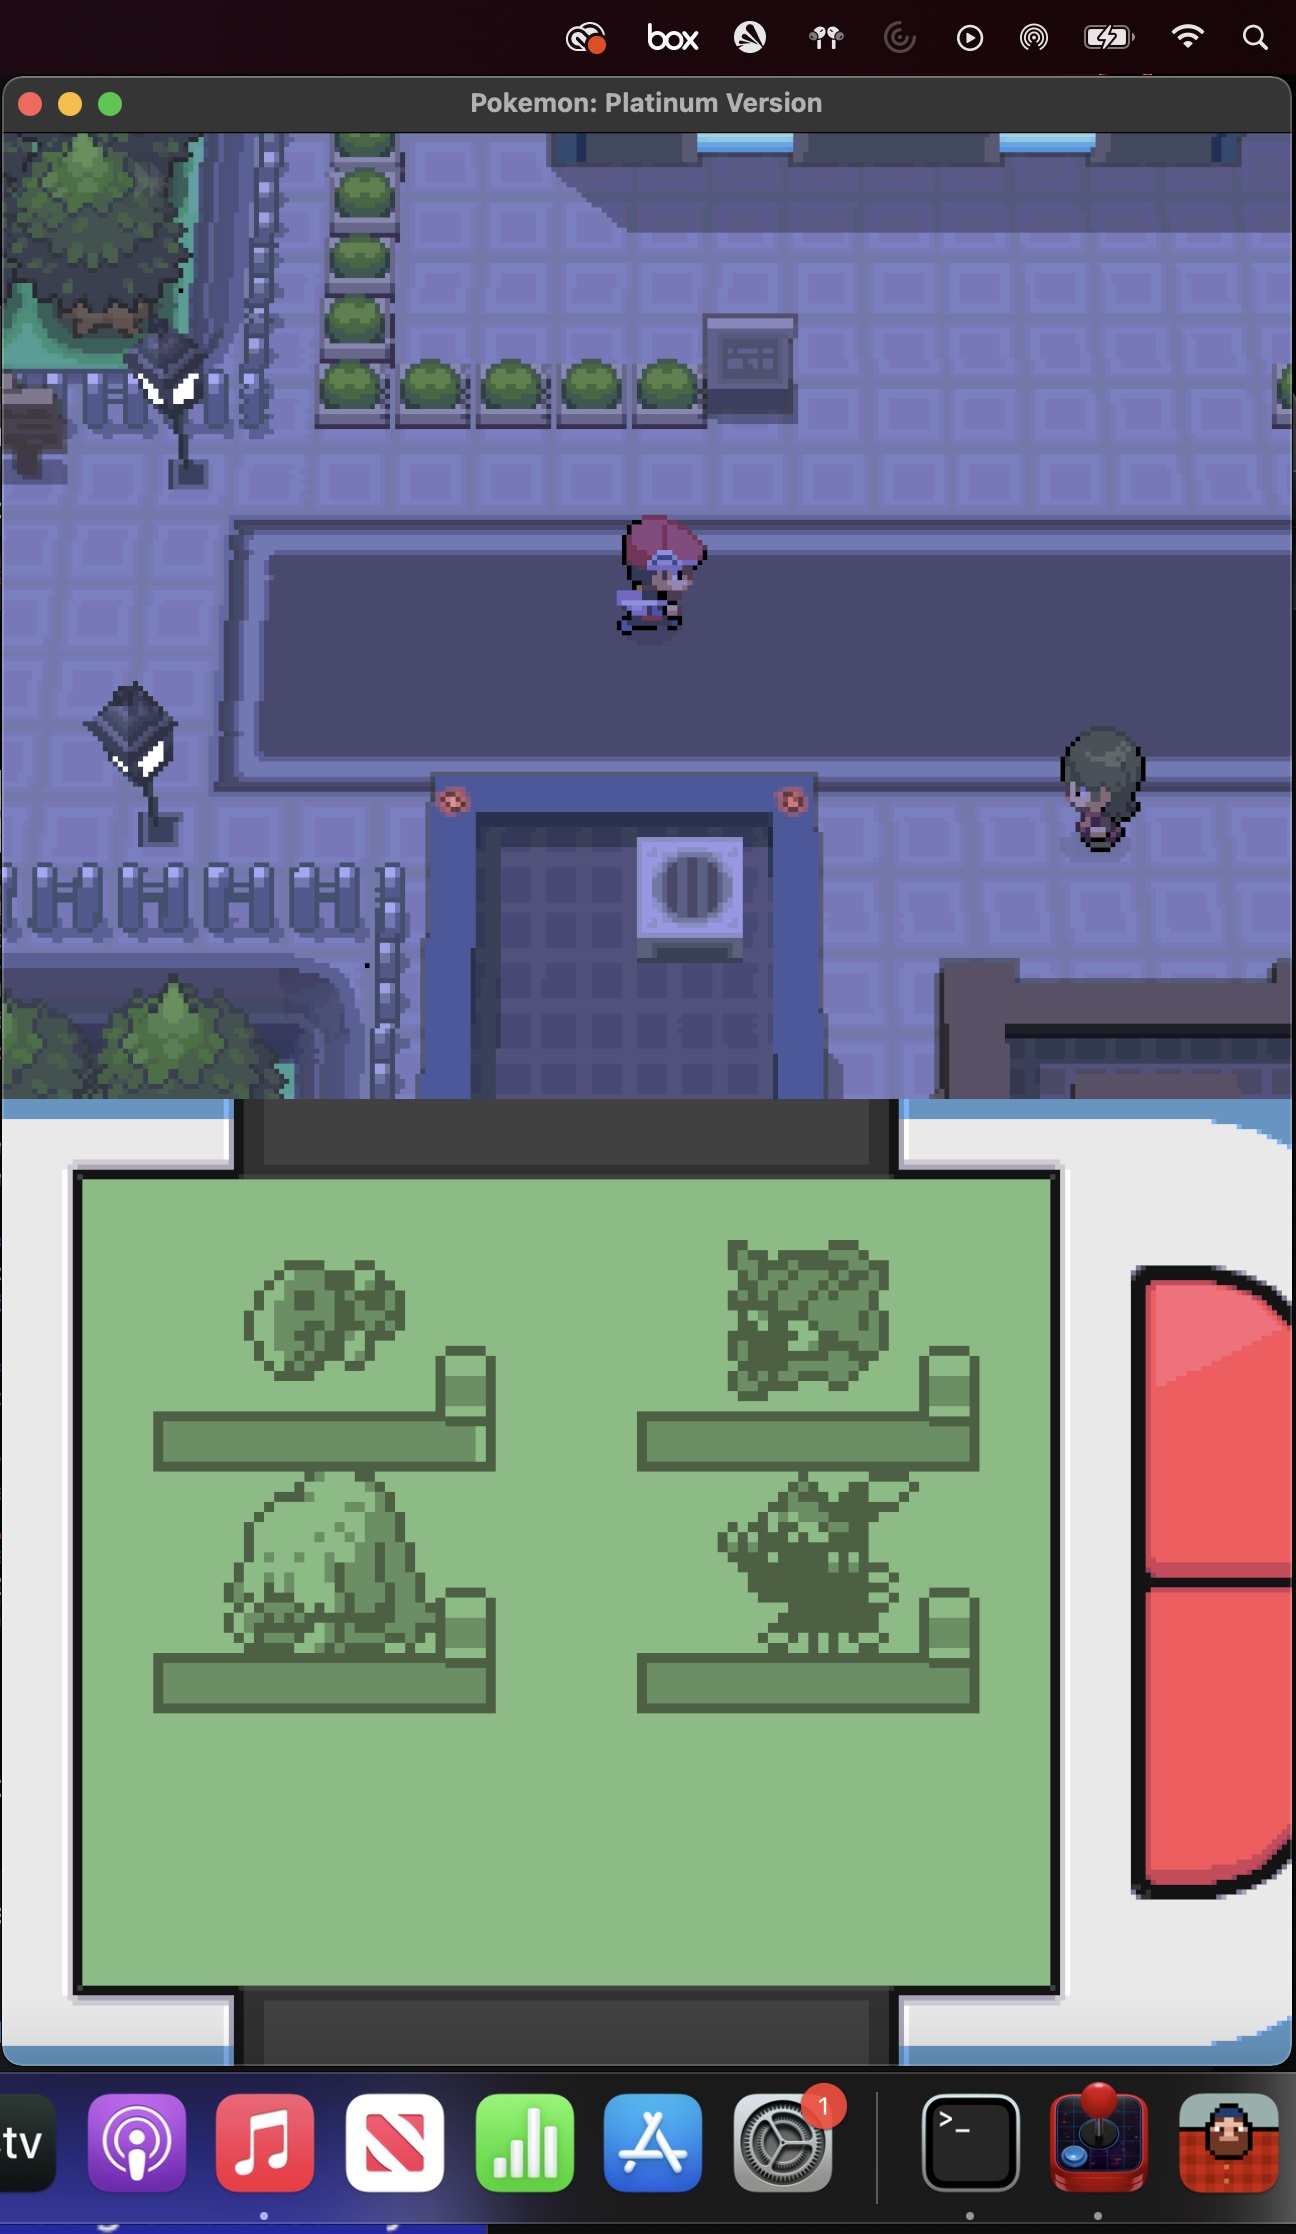player: (608, 505, 708, 645)
